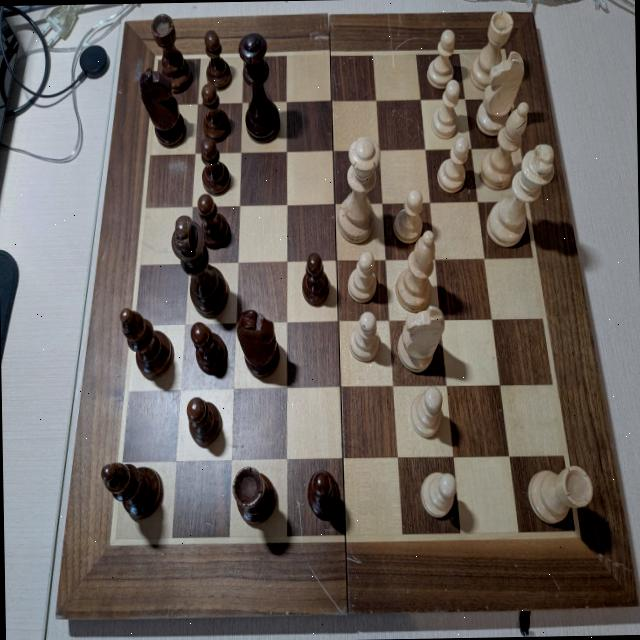black_bishop: (118, 306, 174, 381), (101, 460, 163, 520)
black_knight: (139, 66, 186, 148), (236, 308, 280, 378)
black_pawn: (189, 320, 229, 378), (196, 188, 230, 250), (186, 396, 223, 448), (200, 81, 229, 142), (306, 469, 340, 520), (204, 30, 232, 90), (200, 138, 230, 194), (301, 252, 329, 306)
black_queen: (238, 32, 280, 142)
black_rook: (150, 10, 191, 91), (231, 465, 277, 524)
white_bishop: (477, 103, 530, 190), (394, 230, 436, 312)
white_king: (484, 142, 556, 246), (172, 212, 227, 317)
white_knight: (474, 51, 525, 137), (396, 305, 446, 375)
white_pawn: (436, 134, 470, 192), (430, 80, 461, 140), (392, 186, 424, 244), (426, 29, 456, 90), (420, 471, 458, 518), (410, 385, 443, 438), (348, 310, 381, 362), (346, 249, 376, 304)
white_queen: (334, 135, 382, 244)
white_rook: (527, 464, 593, 524), (468, 10, 514, 90)
